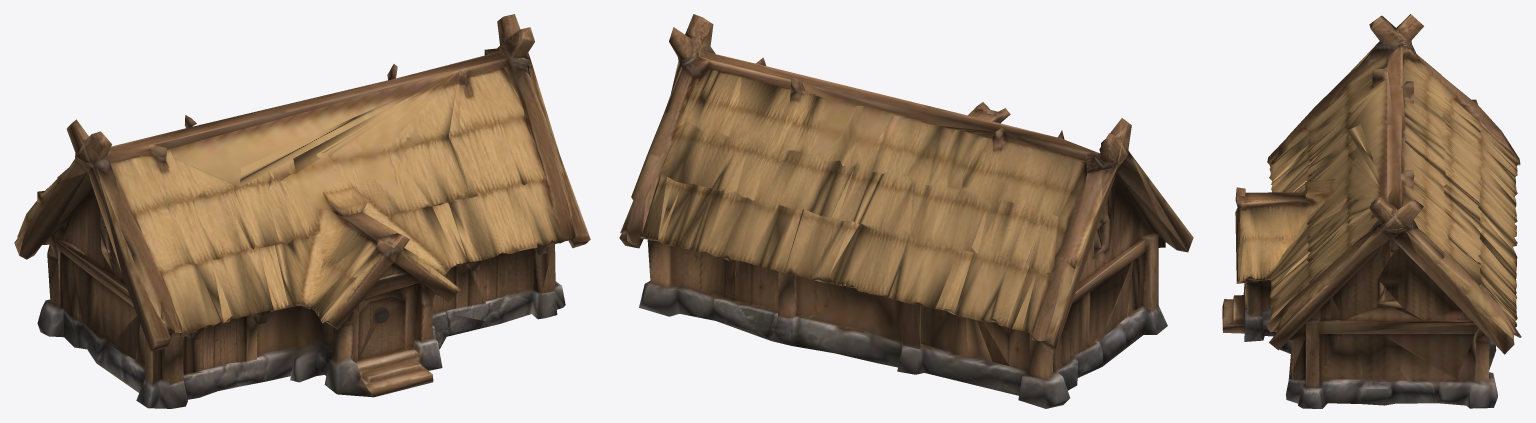
File: house-homestead.glb
3 renders of one model, left to right at view 1: azimuth 30°, elevation 25°; view 2: azimuth 150°, elevation 25°; view 3: azimuth 270°, elevation 25°, orthographic. The views are drawn at different scales.
Visible parts, largest first — view 1: Mesh_0; view 2: Mesh_0; view 3: Mesh_0.
Boxes of the visible parts, x1,y1,x2,y2 form: Mesh_0: [14, 14, 590, 408]; Mesh_0: [619, 14, 1193, 408]; Mesh_0: [1222, 14, 1521, 408].
Size of the model in its own units: 9.47 by 5 by 6.37.
Materials: 1 (1 with a texture image).
